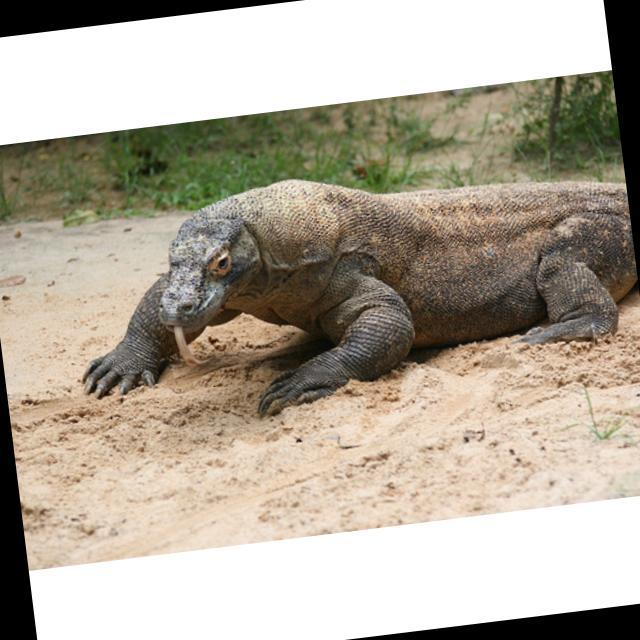KomodoDragon: (45, 138, 640, 445)
